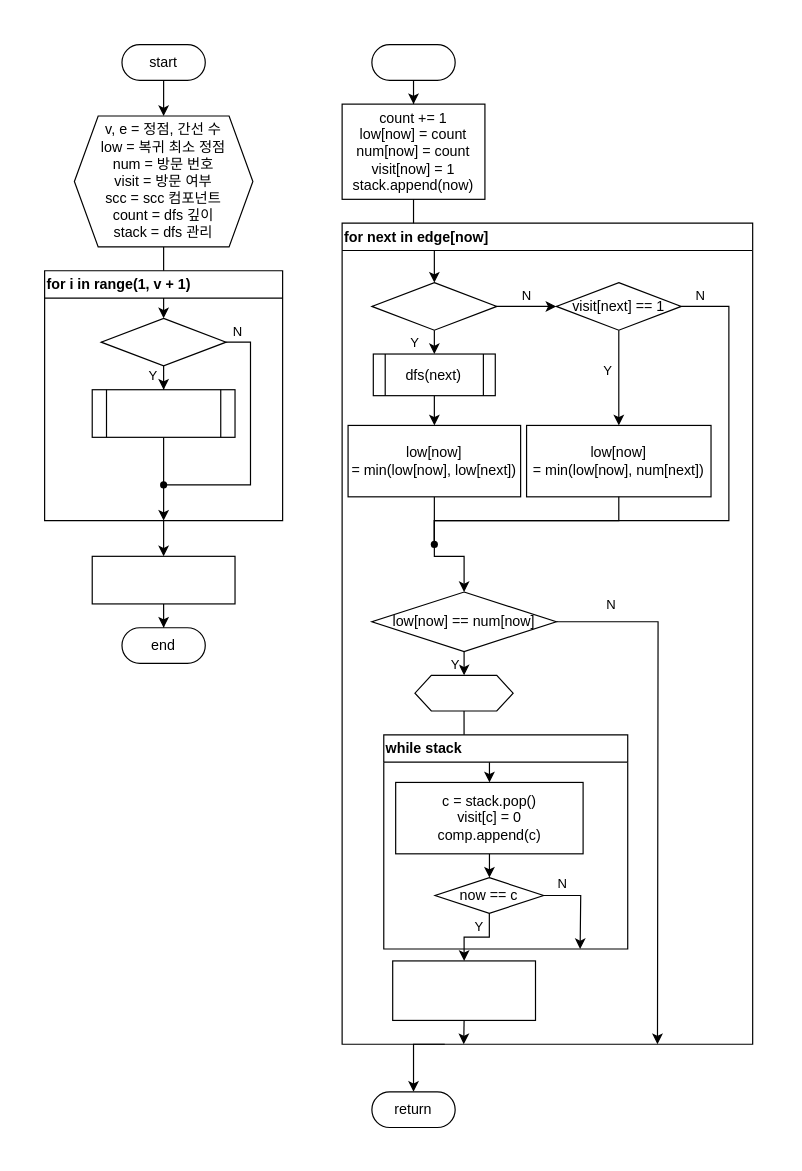
The diagram is 802 pixels wide and 1171 high, and some of its shapes have lost their labels. Each missing label, with the centre of its shape:
"comp = []" belongs at (463,692).
"comp.sort() scc.append(comp)" belongs at (464,990).
"dfs(i)" belongs at (163,413).
"dfs(now)" belongs at (413,61).
"num[i] == 0" belongs at (163,341).
"num[next] == 0" belongs at (434,305).
"scc.sort()" belongs at (163,579).
